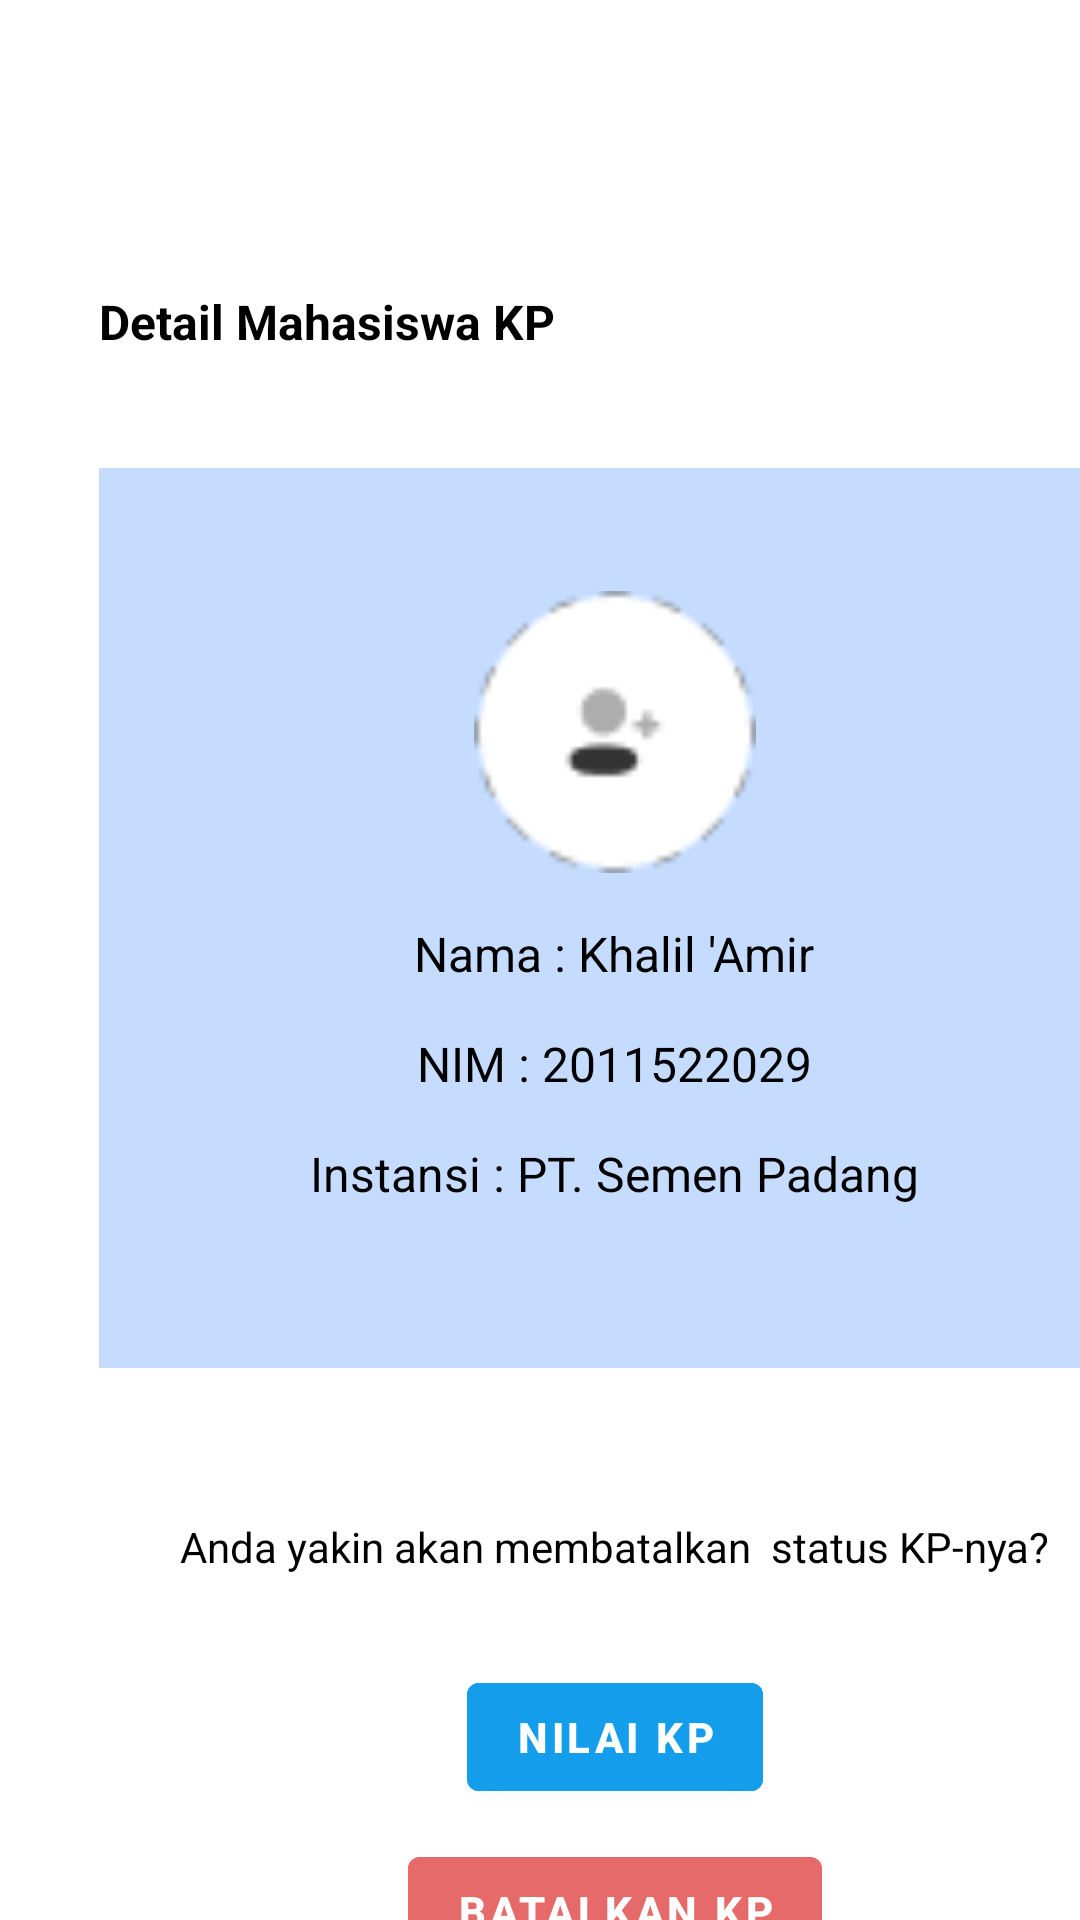

Icon bounding boxes for this 1080 × 1920 phone screenshot, format rect(x1, y1, x2, y2):
profil: rect(474, 591, 756, 873)
